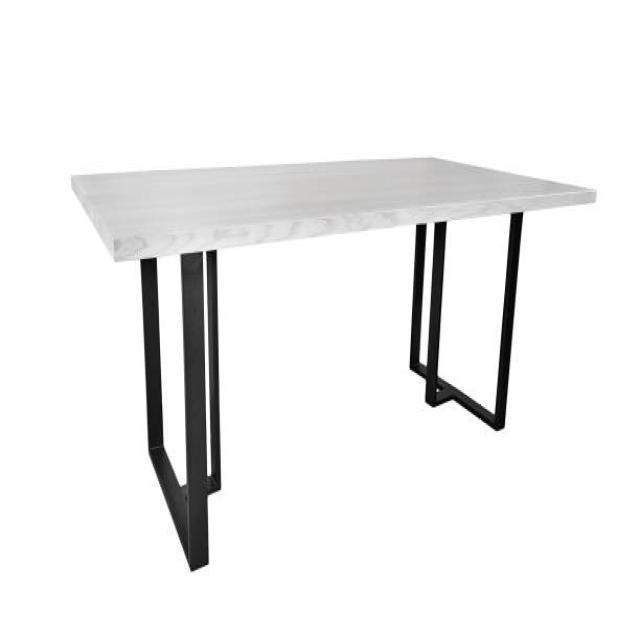table: (70, 153, 597, 572)
